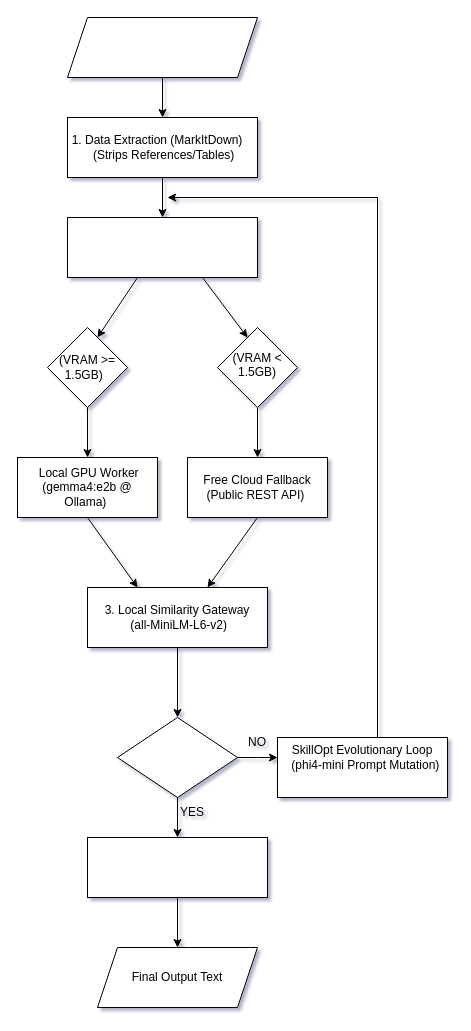
The diagram is 471 pixels wide and 1031 high, and some of its shapes have lost their labels. The centre of each missing label's shape, as x and y in pixels:
2. Dynamic VRAM Router (nvidia-smi): (162,247)
4. Secure File Logger (Hidden JSONL Storage): (177,867)
Input PDF Report: (162,47)
Sentence Score >= 0.90?: (177,757)
